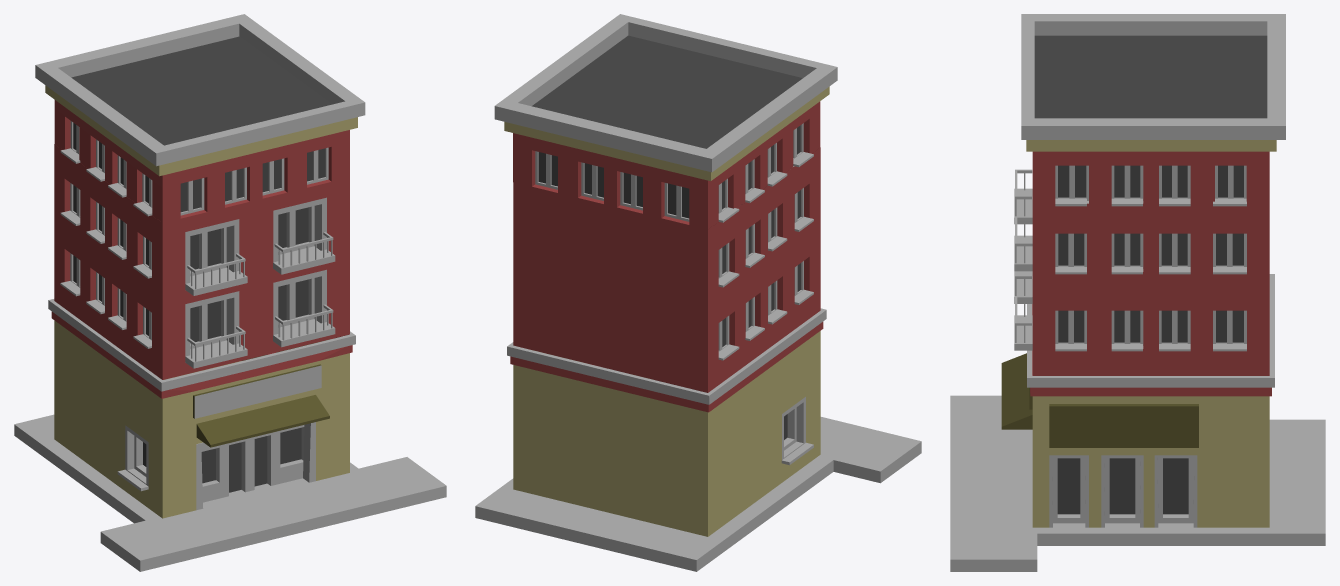
File: Edificio7.fbx
3 renders of one model, left to right at view 1: azimuth 30°, elevation 25°; view 2: azimuth 150°, elevation 25°; view 3: azimuth 270°, elevation 25°, orthographic. The views are drawn at different scales.
Visible parts, largest first — view 1: Object017_17 - Default_0, Object016_16 - Defaultghj_0, Object018_06 - Default_0, Object019_04_0, Object020_15 - Default_0, Object015_17 - Default_0; view 2: Object016_16 - Defaultghj_0, Object017_17 - Default_0, Object018_06 - Default_0, Object019_04_0; view 3: Object017_17 - Default_0, Object016_16 - Defaultghj_0, Object019_04_0, Object018_06 - Default_0, Object020_15 - Default_0.
Boxes of the visible parts, x1,y1,x2,y2 form: Object017_17 - Default_0: (14, 14, 446, 571); Object016_16 - Defaultghj_0: (51, 100, 352, 398); Object018_06 - Default_0: (45, 85, 357, 518); Object019_04_0: (71, 36, 331, 492); Object020_15 - Default_0: (193, 364, 329, 447); Object015_17 - Default_0: (194, 365, 321, 418); Object016_16 - Defaultghj_0: (510, 101, 823, 412); Object017_17 - Default_0: (475, 14, 921, 571); Object018_06 - Default_0: (504, 86, 829, 536); Object019_04_0: (532, 35, 802, 439); Object017_17 - Default_0: (950, 14, 1325, 571); Object016_16 - Defaultghj_0: (1030, 151, 1271, 396); Object019_04_0: (1034, 35, 1267, 514); Object018_06 - Default_0: (1026, 140, 1276, 527); Object020_15 - Default_0: (1001, 353, 1198, 447).
Bounding box in the file's own units: 15444 × 18435 × 14936.
